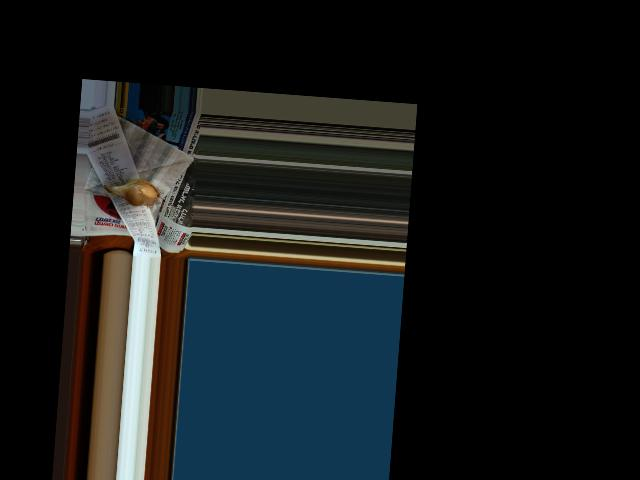onion: (109, 177, 159, 205)
